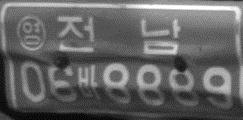0: (18, 60, 46, 103)
6: (48, 64, 75, 104)
8: (134, 64, 166, 107), (167, 67, 200, 107), (102, 63, 131, 106)
9: (202, 66, 234, 110)
바: (77, 64, 100, 101)
영: (16, 15, 47, 51)
전남_D: (55, 14, 181, 54)
